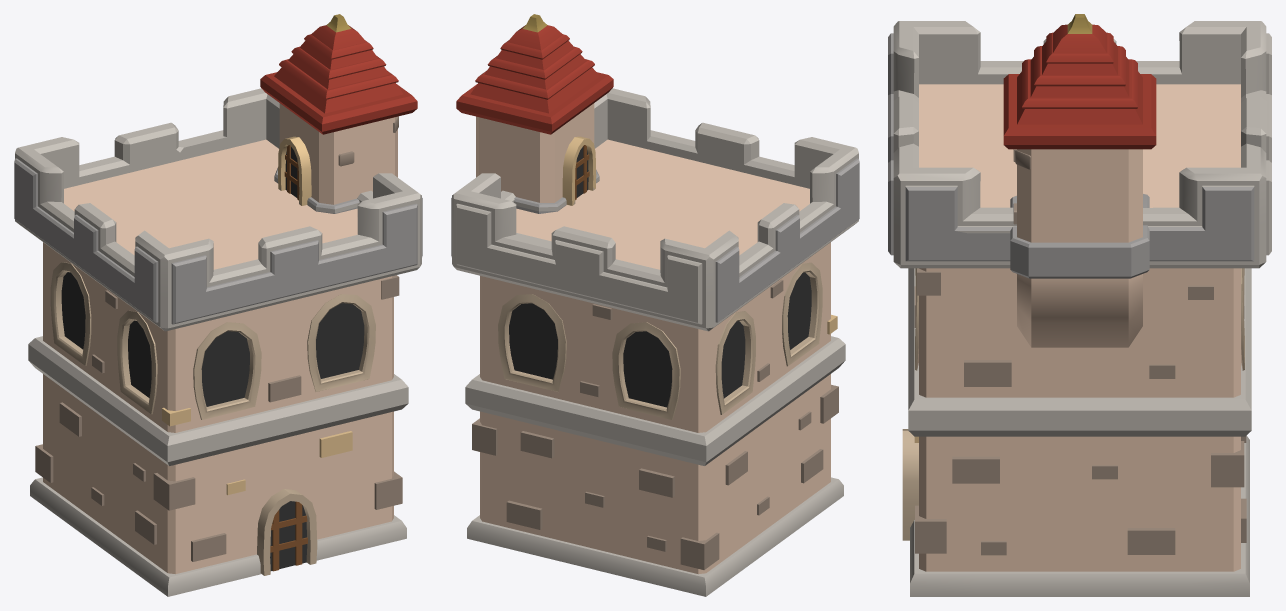
File: Castle Tower.fbx
3 renders of one model, left to right at view 1: azimuth 30°, elevation 25°; view 2: azimuth 150°, elevation 25°; view 3: azimuth 270°, elevation 25°, orthographic. The views are drawn at different scales.
Visible parts, largest first — view 1: Cube.056; view 2: Cube.056; view 3: Cube.056.
Part boxes in pixels (<box>): Cube.056: <box>14,14,422,596</box>; Cube.056: <box>451,14,859,596</box>; Cube.056: <box>888,14,1271,596</box>.
Size of the model in its own units: 3281 by 5488 by 3686.
